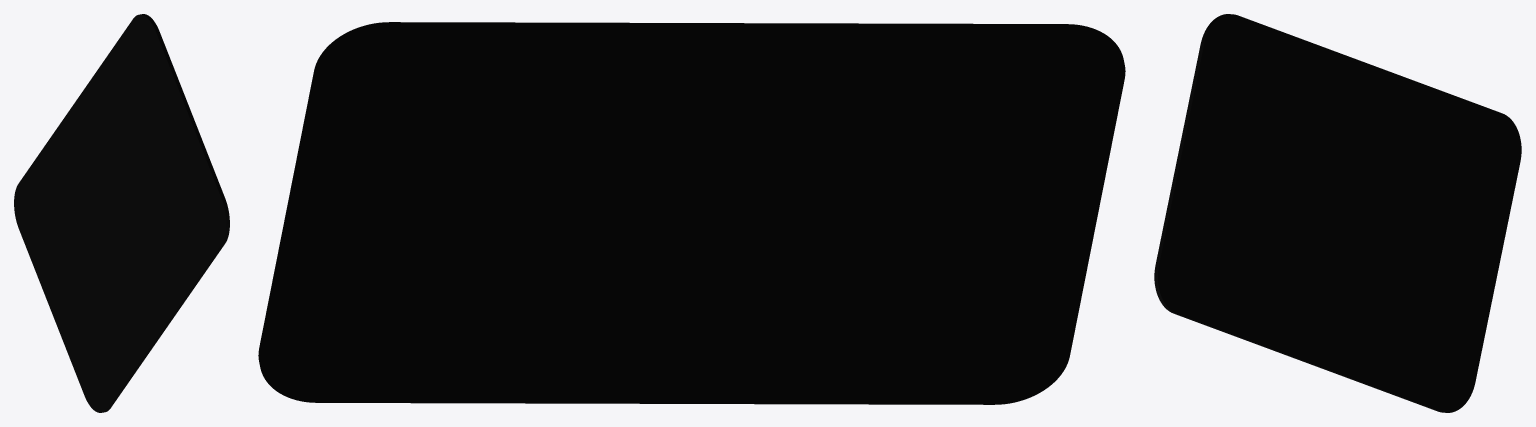
3 renders of one model, left to right at view 1: azimuth 30°, elevation 25°; view 2: azimuth 150°, elevation 25°; view 3: azimuth 270°, elevation 25°, orthographic. The views are drawn at different scales.
Parts seen in each view (by area): view 1: Plane; view 2: Plane; view 3: Plane.
Part boxes in pixels (<box>): Plane: <box>14,14,229,412</box>; Plane: <box>258,22,1125,404</box>; Plane: <box>1154,14,1521,412</box>.
Bounding box in the file's own units: 2.46 × 1.83 × 2.05.
2 materials, 1 textured.
